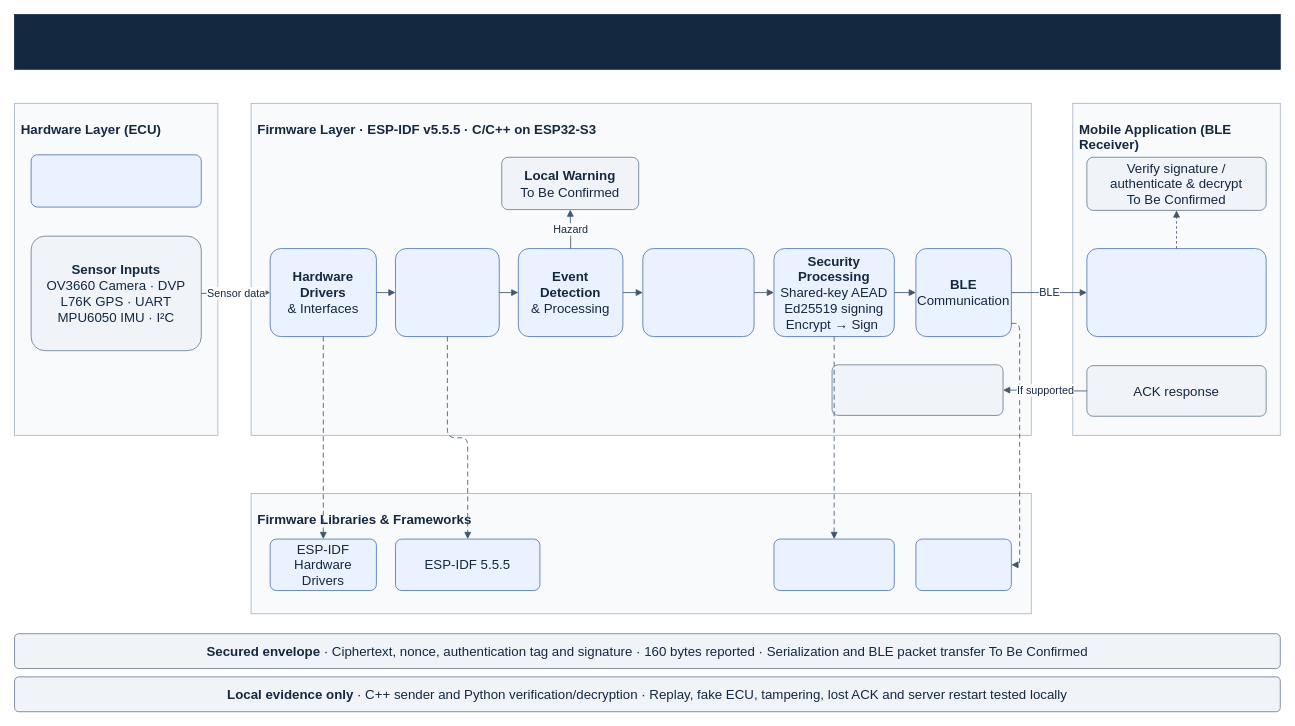
This 1295x726 diagram has some shape labels left out. Here are the shapes that lost their labels. From the top down, the centre of each, then its label:
At point 647,41: "ICVSP – High-Level Embedded Software & Security Architecture".
At point 115,180: "Seeed XIAO ESP32-S3 Sense".
At point 447,292: "Sensor Data Acquisition".
At point 698,292: "Message Construction ID · timestamp latitude · longitude".
At point 1176,292: "BLE Message Reception".
At point 917,389: "Message Queue & ACK Handling".
At point 833,564: "Monocypher".
At point 963,564: "ESP-IDF BLE Stack".
